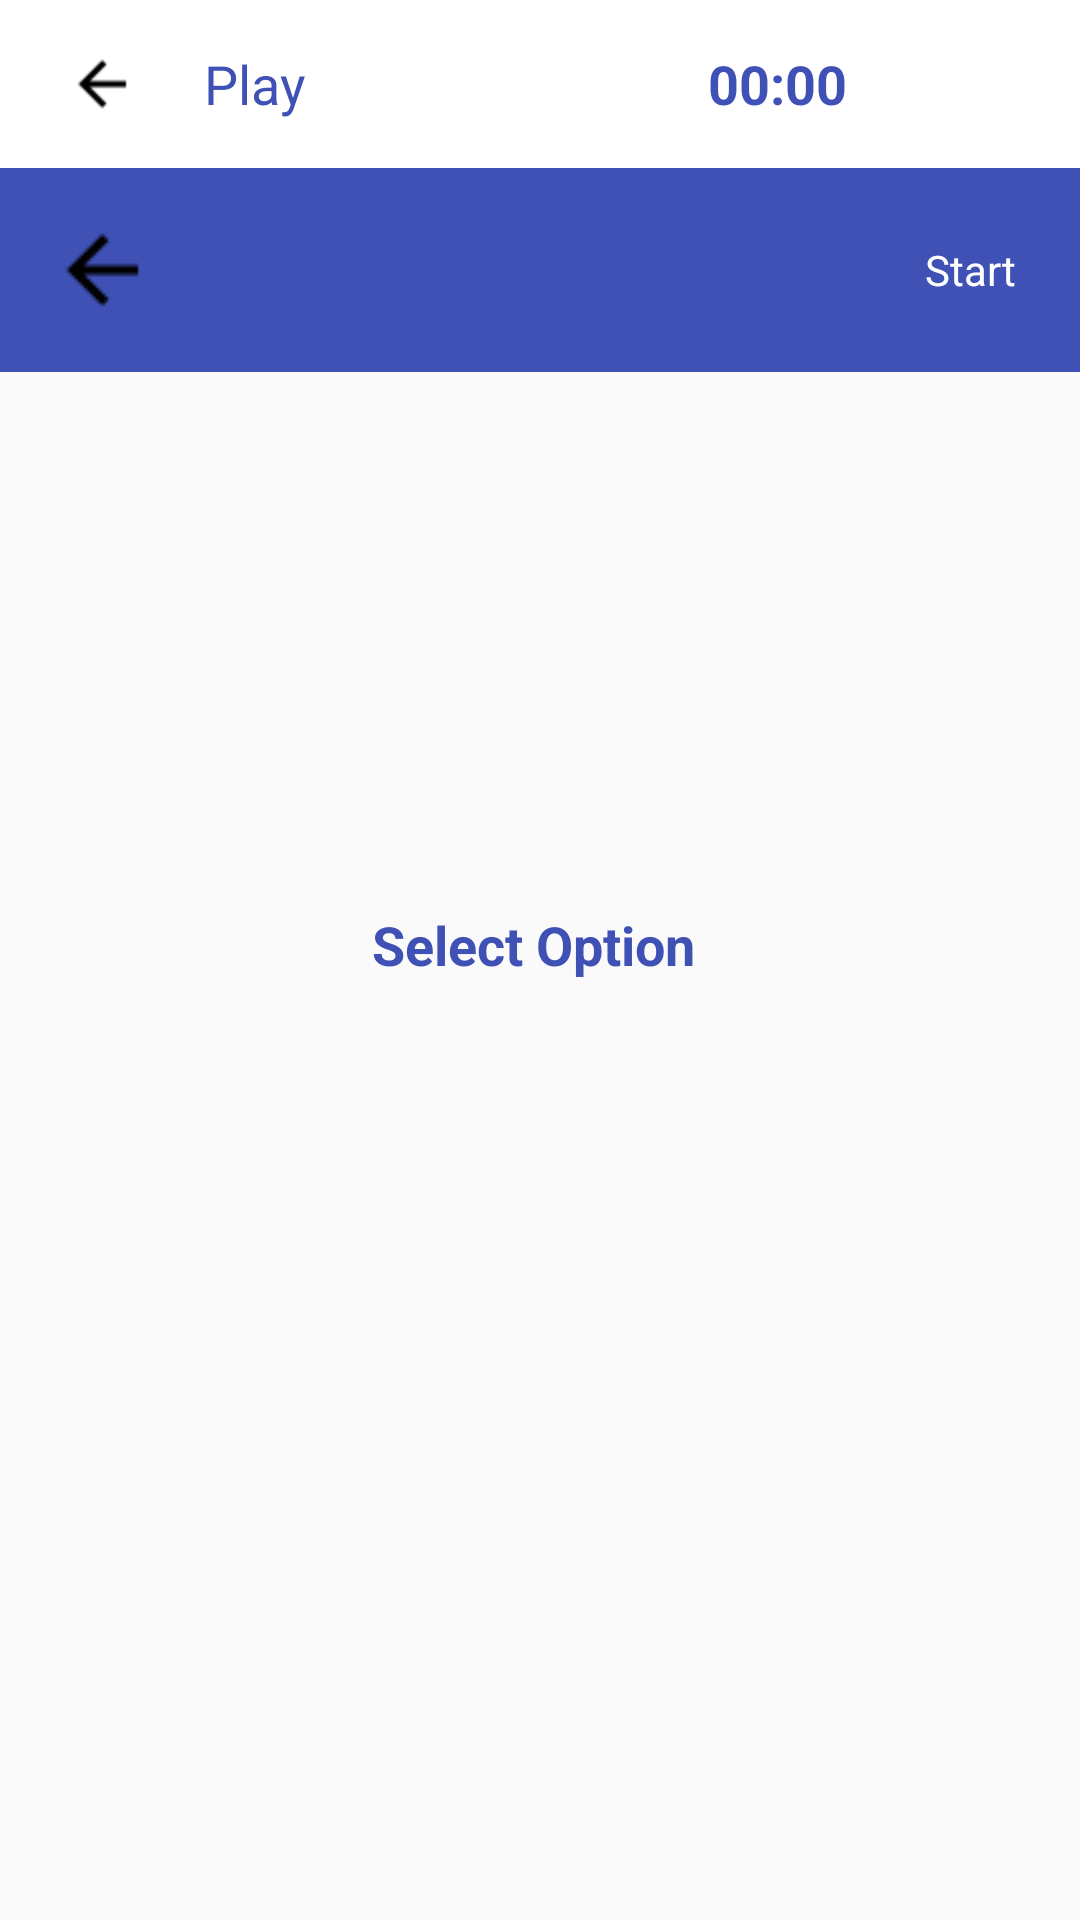

Icon click points for this 1080 × 1920 phone screenshot, format [x,y]:
back: [102,84], [102,270]
